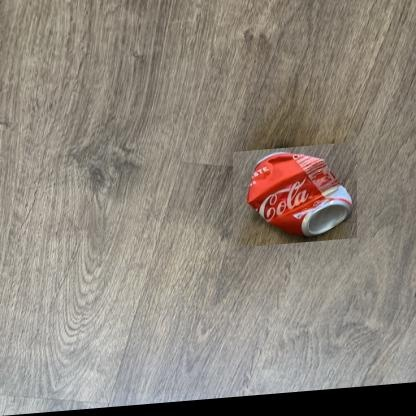trash: (247, 152, 351, 236)
